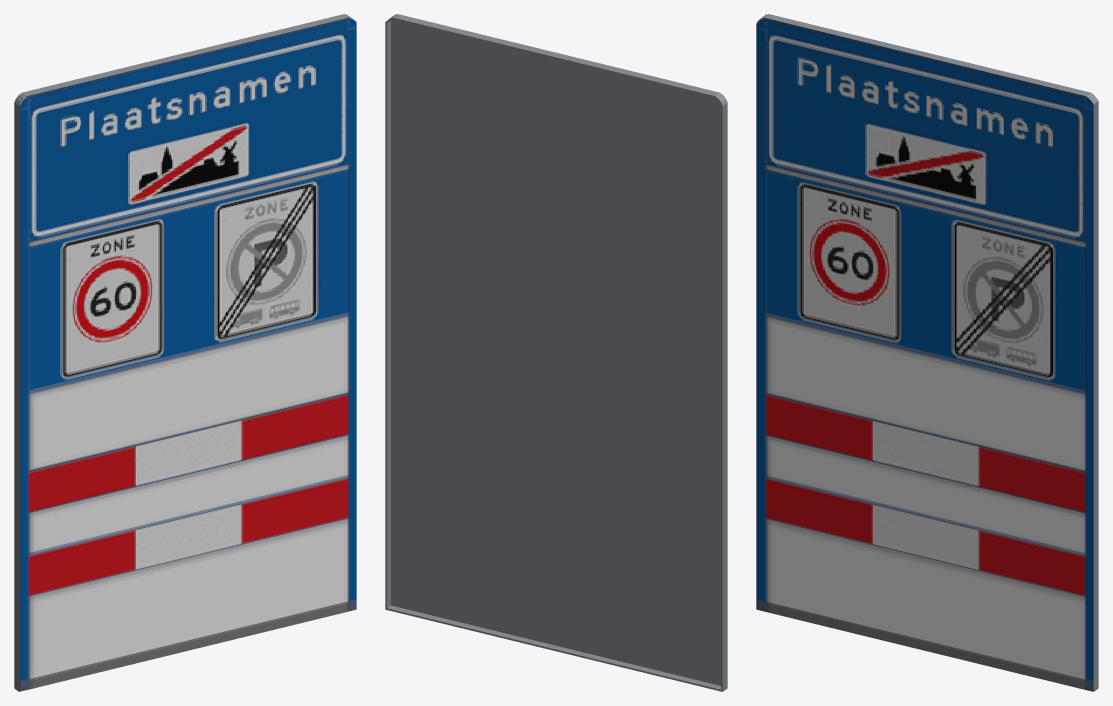
The picture shows the model from 3 angles, left to right: view 1: azimuth 30°, elevation 25°; view 2: azimuth 150°, elevation 25°; view 3: azimuth 330°, elevation 25°; orthographic projection.
Parts seen in each view (by area): view 1: cat_8ba57d2ca6bbbd2e; view 2: cat_8ba57d2ca6bbbd2e; view 3: cat_8ba57d2ca6bbbd2e.
Part boxes in pixels (left/top/right/bottom): cat_8ba57d2ca6bbbd2e: left=14, top=14, right=356, bottom=691; cat_8ba57d2ca6bbbd2e: left=385, top=14, right=727, bottom=691; cat_8ba57d2ca6bbbd2e: left=756, top=14, right=1098, bottom=691.
Size of the model in its own units: 0.6 by 0.015 by 1.01.
Materials: 2 (1 with a texture image).
